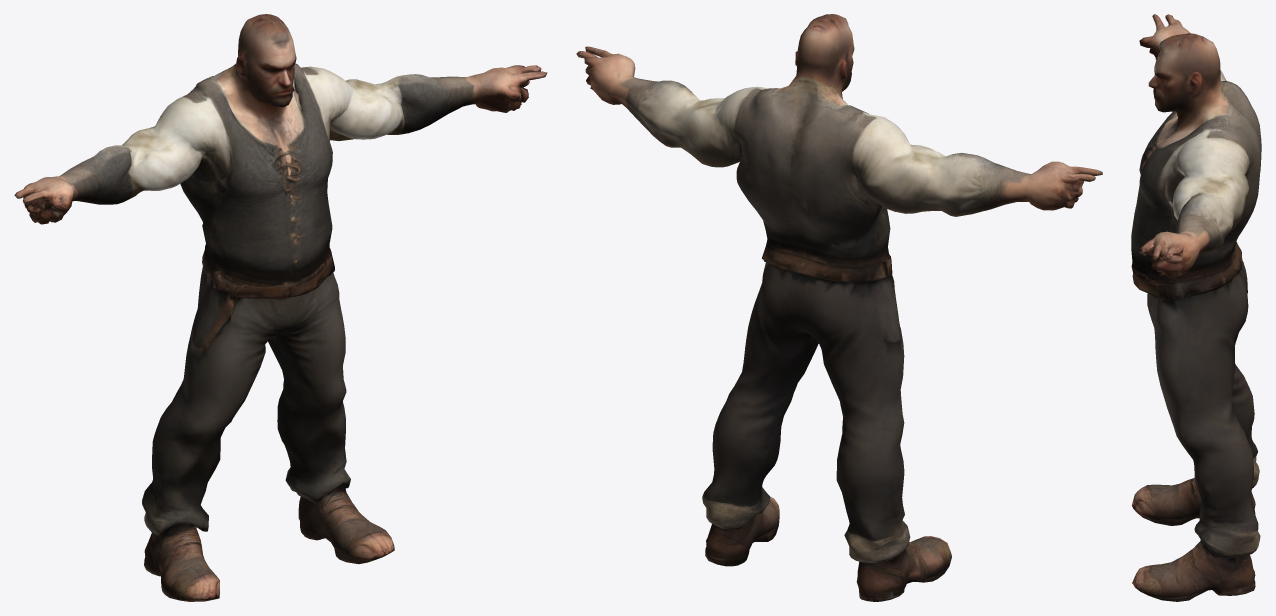
Rendered from thug_opponent_in_the_0526201207_texture.fbx.
3 renders of one model, left to right at view 1: azimuth 30°, elevation 25°; view 2: azimuth 150°, elevation 25°; view 3: azimuth 270°, elevation 25°, orthographic. The views are drawn at different scales.
Visible parts, largest first — view 1: Mesh_0; view 2: Mesh_0; view 3: Mesh_0.
Boxes of the visible parts, box(x1,y1,x2,y2) form: Mesh_0: box(14, 14, 547, 601); Mesh_0: box(576, 14, 1102, 601); Mesh_0: box(1131, 14, 1261, 601).
Size of the model in its own units: 200 by 200 by 45.44.
Materials: 1 (1 with a texture image).
